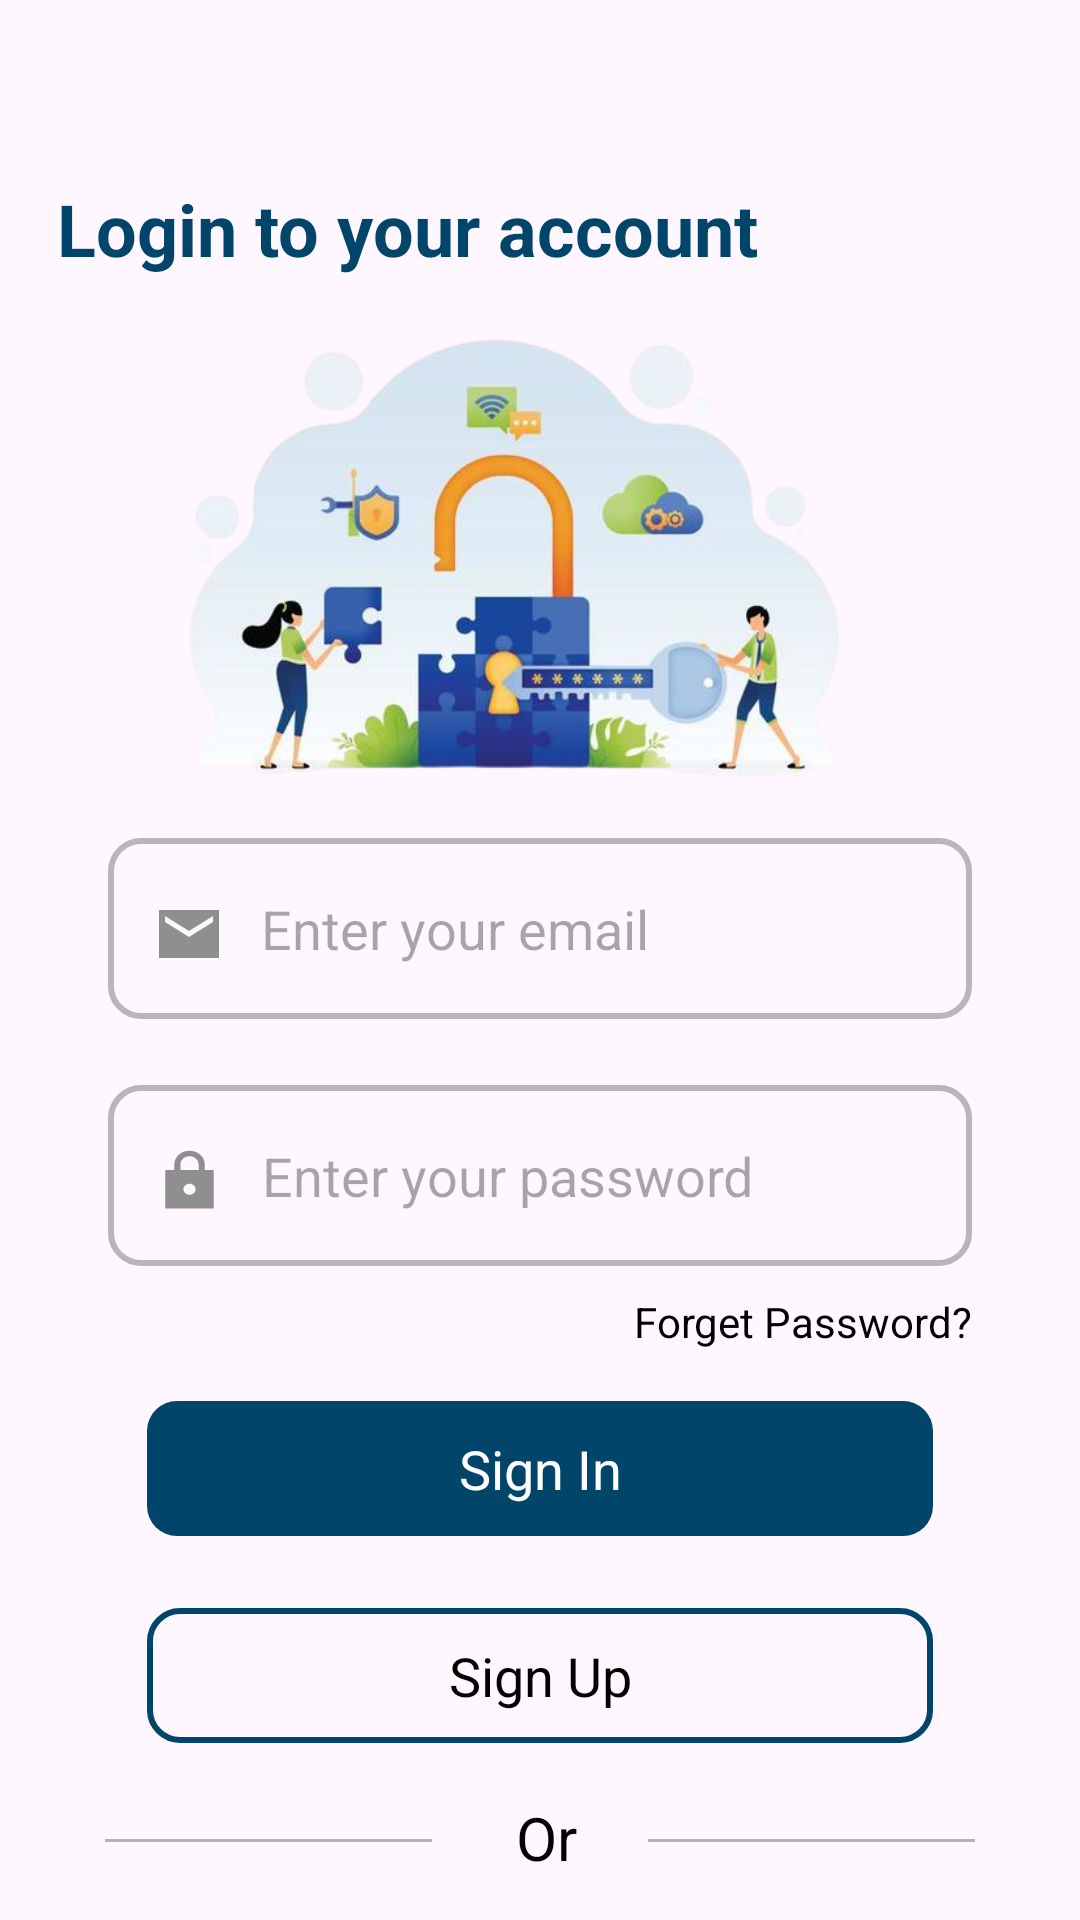

Named icons in this screenshot (1080x1920) and their bounding boxes, [x1, y1, x2, y2]:
lock: [165, 1150, 214, 1209]
